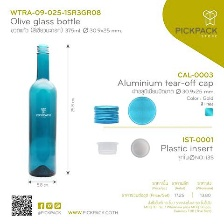bottle: (24, 38, 61, 179)
